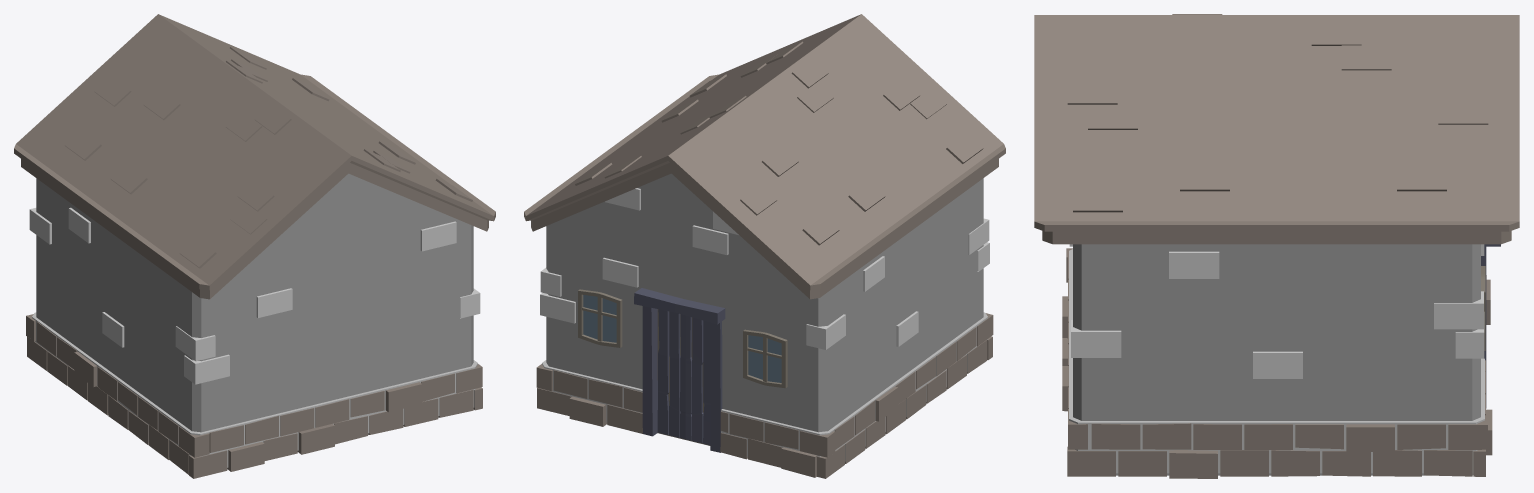
Rendered from 1Story_GableRoof.glb.
3 renders of one model, left to right at view 1: azimuth 30°, elevation 25°; view 2: azimuth 150°, elevation 25°; view 3: azimuth 270°, elevation 25°, orthographic. The views are drawn at different scales.
Parts seen in each view (by area): view 1: 1Story_GableRoof; view 2: 1Story_GableRoof; view 3: 1Story_GableRoof.
Part boxes in pixels (bbox=[...]): 1Story_GableRoof: bbox=[14, 14, 495, 478]; 1Story_GableRoof: bbox=[524, 14, 1005, 478]; 1Story_GableRoof: bbox=[1034, 14, 1519, 478].
Size of the model in its own units: 2.11 by 2.02 by 2.38.
Materials: 1 (1 with a texture image).
